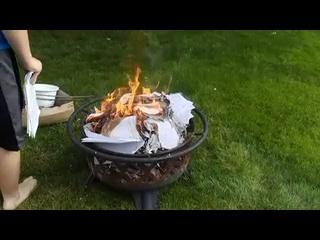Fire: (101, 67, 155, 119)
